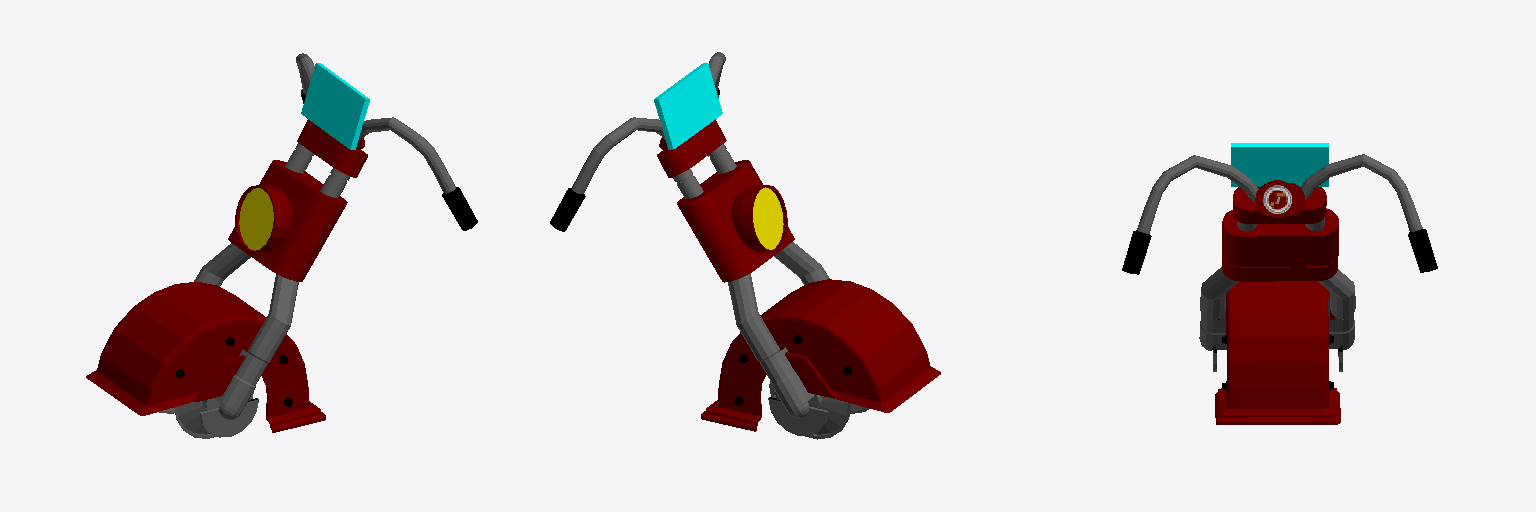
3 views of the same model, side by side, from view 1: azimuth 30°, elevation 25°; view 2: azimuth 150°, elevation 25°; view 3: azimuth 270°, elevation 25° (orthographic).
Visible parts, largest first — view 1: Steering; view 2: Steering; view 3: Steering.
Boxes of the visible parts, x1=… form: Steering: x1=86, y1=53, x2=477, y2=438; Steering: x1=550, y1=52, x2=940, y2=439; Steering: x1=1122, y1=143, x2=1437, y2=424.
Bounding box in the file's own units: 5.16 × 5.21 × 4.83.
1 materials, 1 textured.